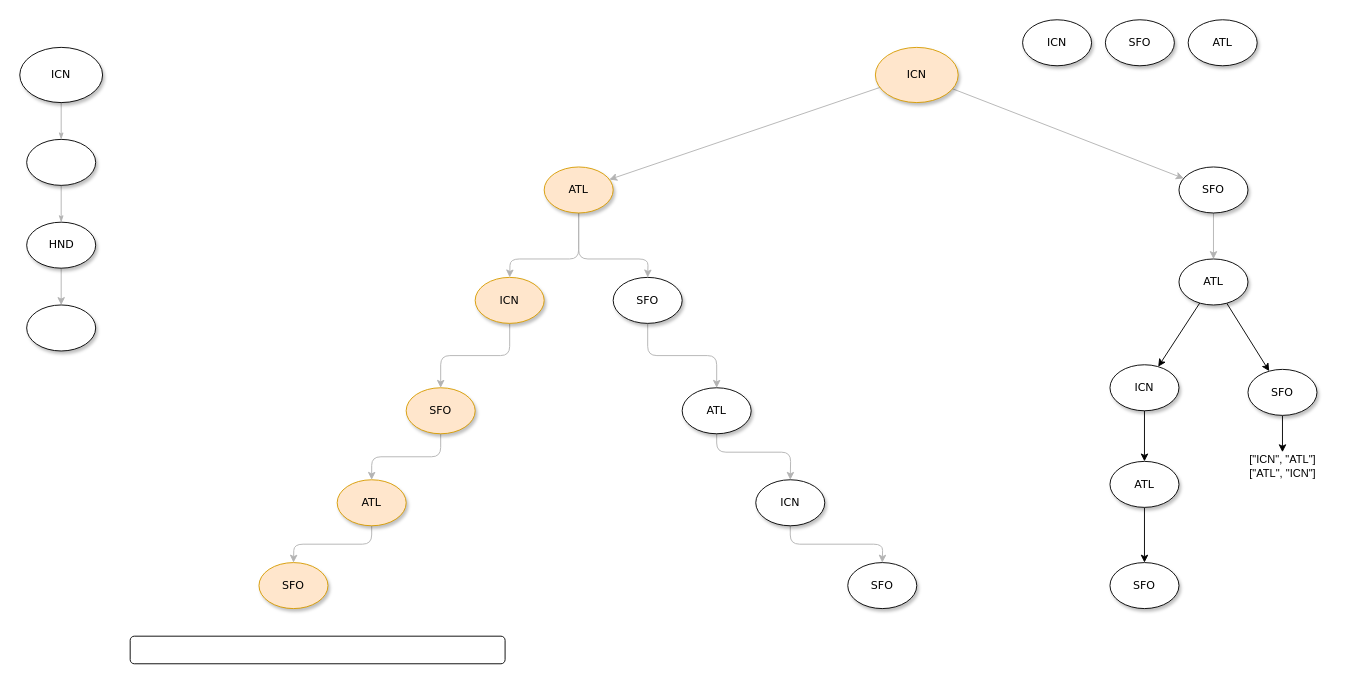
Image size: 1358x680. Some labels were removed from this diagram. The centre of each missing label's shape, as x and y in pixels:
"IAD" goes at point 61,328.
"JFK" goes at point 61,163.
"알파벳 사전순으로 결과값 하나 선정하여 출력" goes at point 317,649.
